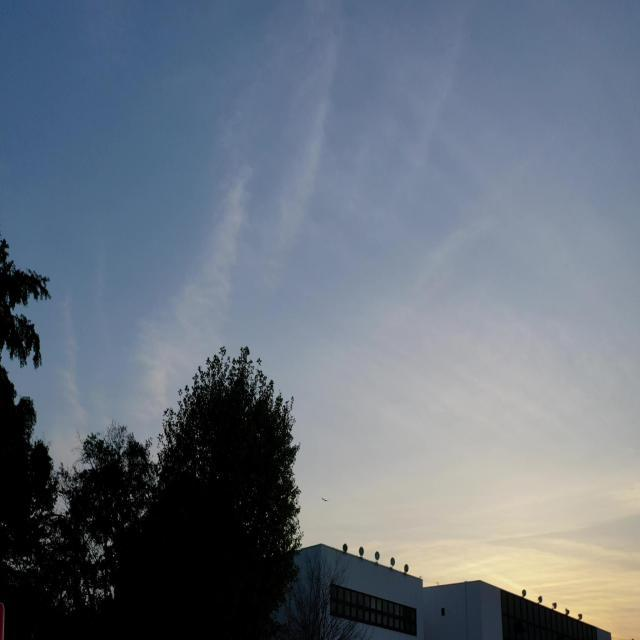Birds: (322, 496, 329, 506)
